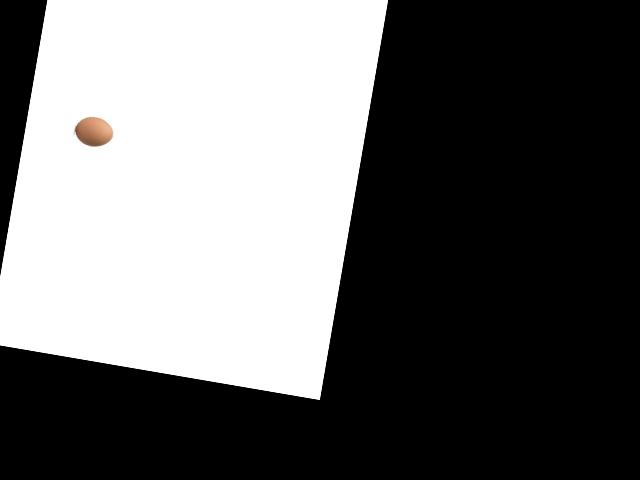egg: (72, 114, 114, 149)
